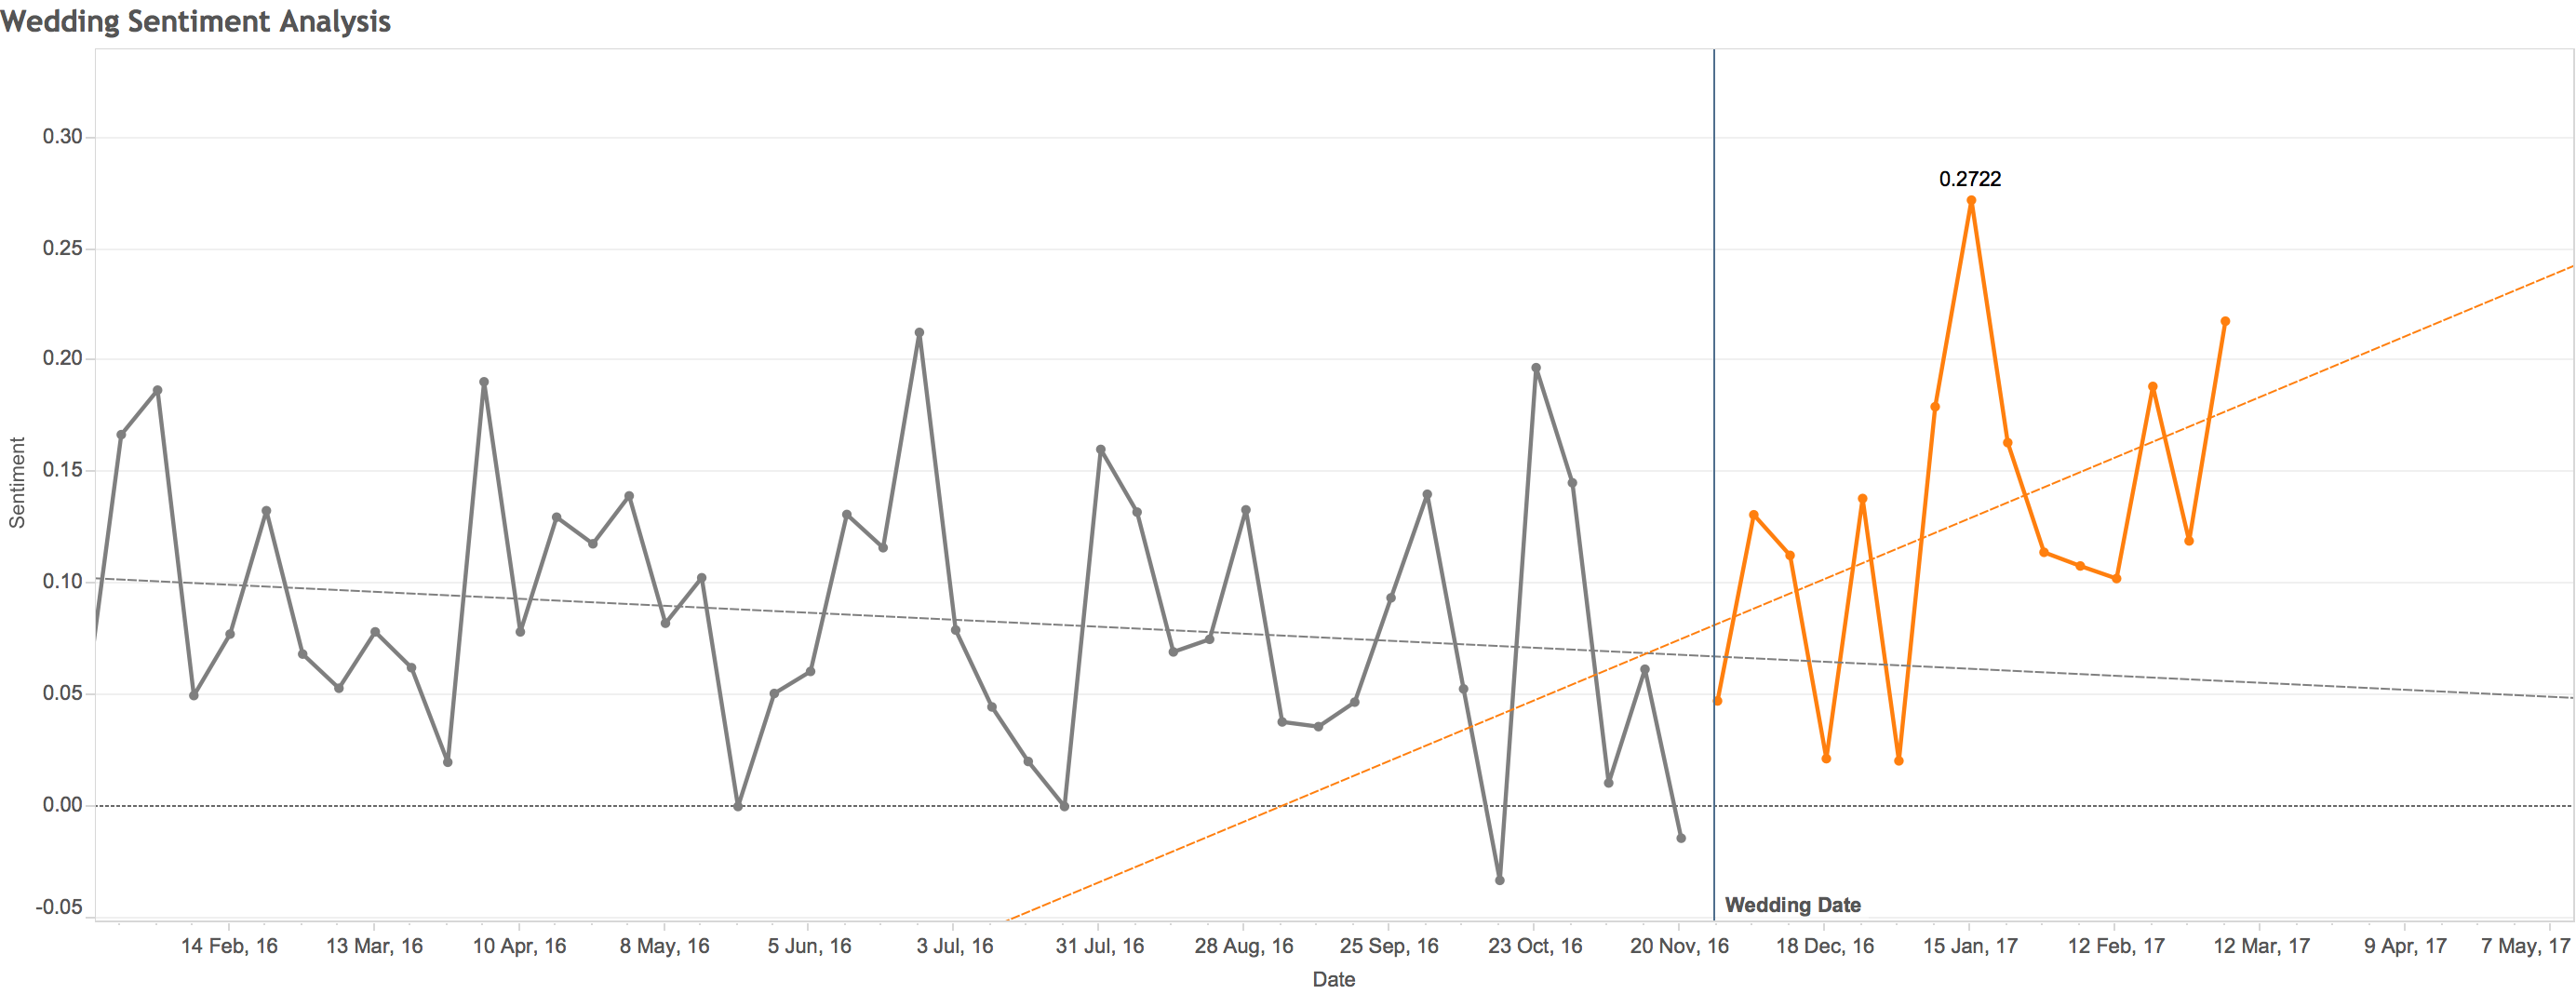

The page's visual inventory and layout, read from the dashboard file:
{"tool":"tableau","page":{"name":"Dashboard 1","canvas":[1400,550],"ordinal":0},"visuals":[{"type":"worksheet","title":"Sheet 1","mark":"Line","rows":["F2"],"cols":["F1"],"box":[0,0,1396,550]}]}

Visuals, with their boxes in screenshot pixels (x1, y1, x2, y2), scaled from the page's 1400x550 canvas onto the 2576x994 screenshot:
"Sheet 1" worksheet (Line marks): [0,0,2569,993]
